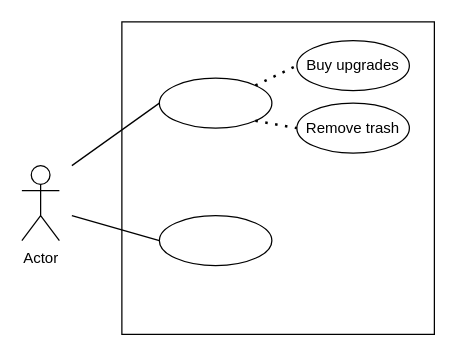
This 456x356 diagram has some shape labels left out. Each missing label, with the box of its shape:
Play game: (158, 77, 272, 128)
Read material: (158, 214, 272, 266)
